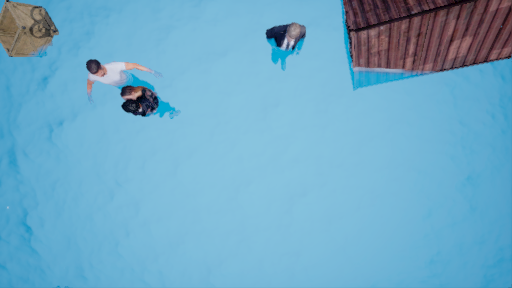person: (82, 58, 184, 128), (251, 15, 315, 80)
